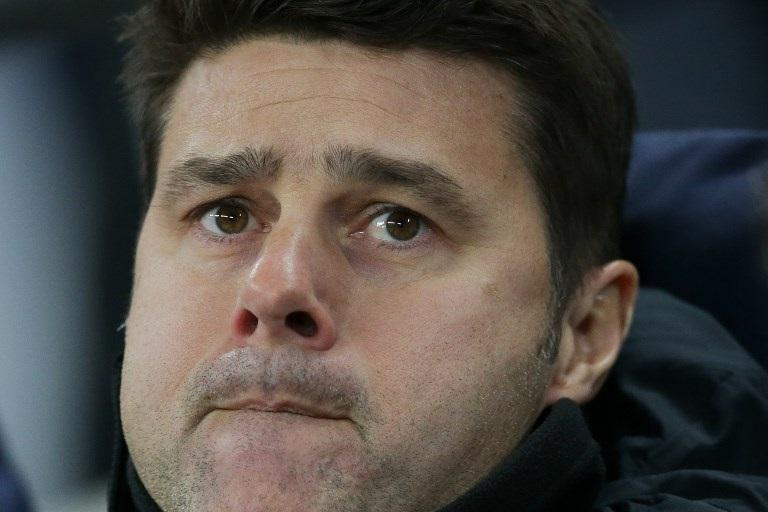Sober: (159, 59, 511, 512)
